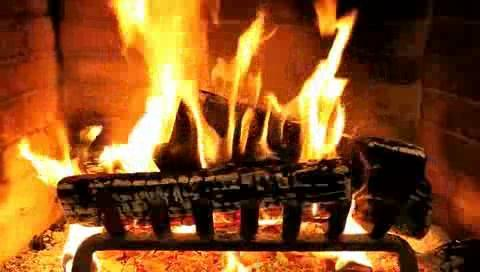fire: (107, 2, 351, 157)
